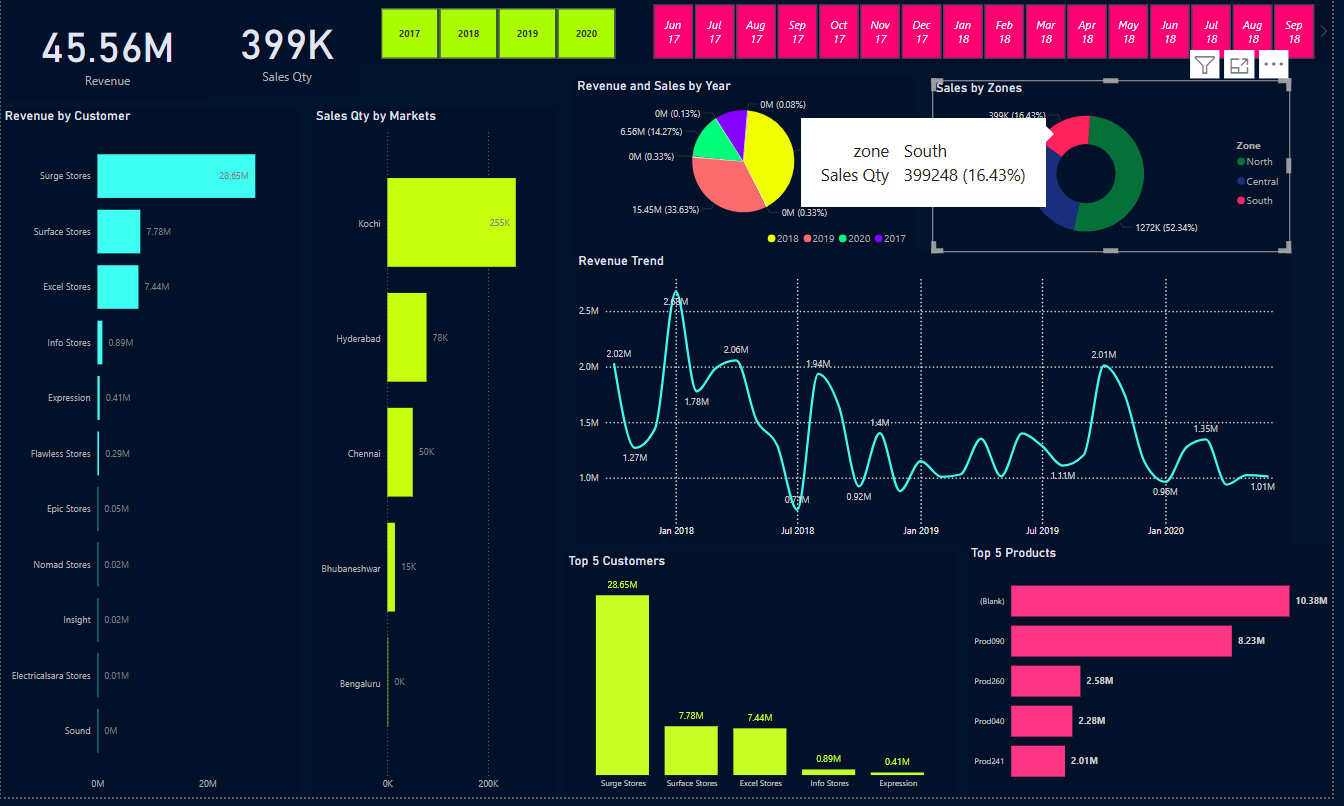

This screenshot's page, from the dashboard's own definition file:
{"tool":"powerbi","page":{"name":"Dashboard","canvas":[1750,1050],"ordinal":0},"visuals":[{"type":"card","fields":{"Values":["BaseMeasures.Revenue"]},"box":[1.6,4.8,277.5,125.8],"z":0},{"type":"card","fields":{"Values":["BaseMeasures.Sales Qty"]},"box":[279.1,0,193.6,127.5],"z":1000},{"type":"barChart","title":"Revenue by Customer","fields":{"Category":["sales customers.custmer_name"],"Y":["BaseMeasures.Revenue"]},"box":[0,143,392.8,907.3],"z":2000},{"type":"barChart","title":"Sales Qty by Markets","fields":{"Category":["sales markets.markets_name"],"Y":["BaseMeasures.Sales Qty"]},"box":[409.3,143,320.5,907.3],"z":3000},{"type":"donutChart","title":"Sales by Zones","fields":{"Y":["BaseMeasures.Sales Qty"],"Category":["sales markets.zone"]},"box":[1224.6,106.8,470.1,226.8],"z":4000},{"type":"slicer","fields":{"Values":["sales date.year"]},"box":[473.4,4.9,358.3,80.5],"z":5000},{"type":"slicer","title":"Months","fields":{"Values":["sales date.cy_date"]},"box":[831.7,0,918.8,85.5],"z":6000},{"type":"columnChart","title":"Top 5 Customers","fields":{"Category":["sales customers.custmer_name"],"Y":["BaseMeasures.Revenue"]},"box":[741.3,728.2,516.1,320.5],"z":7000},{"type":"pieChart","title":"Revenue and Sales by Year","fields":{"Category":["sales date.year"],"Y":["BaseMeasures.Revenue","BaseMeasures.Sales Qty"]},"box":[752.8,103.6,447.1,230.1],"z":8000},{"type":"barChart","title":"Top 5 Products","fields":{"Y":["BaseMeasures.Revenue"],"Category":["sales products.product_code"]},"box":[1270.6,718.3,480,332],"z":9000},{"type":"lineChart","title":"Revenue Trend","fields":{"Category":["sales date.cy_date"],"Y":["BaseMeasures.Revenue"]},"box":[754.5,333.7,940.2,384.6],"z":10000}]}

Visuals, with their boxes in screenshot pixels (x1, y1, x2, y2), scaled from the page's 1750x1050 canvas onto the 1344x806 screenshot:
card - BaseMeasures.Revenue: 1 4 214 100
card - BaseMeasures.Sales Qty: 214 0 363 98
"Revenue by Customer" barChart: 0 110 302 805
"Sales Qty by Markets" barChart: 314 110 560 805
"Sales by Zones" donutChart: 940 82 1302 256
slicer - sales date.year: 364 4 639 66
"Months" slicer: 639 0 1343 66
"Top 5 Customers" columnChart: 569 559 966 805
"Revenue and Sales by Year" pieChart: 578 80 922 256
"Top 5 Products" barChart: 976 551 1343 805
"Revenue Trend" lineChart: 579 256 1302 551
